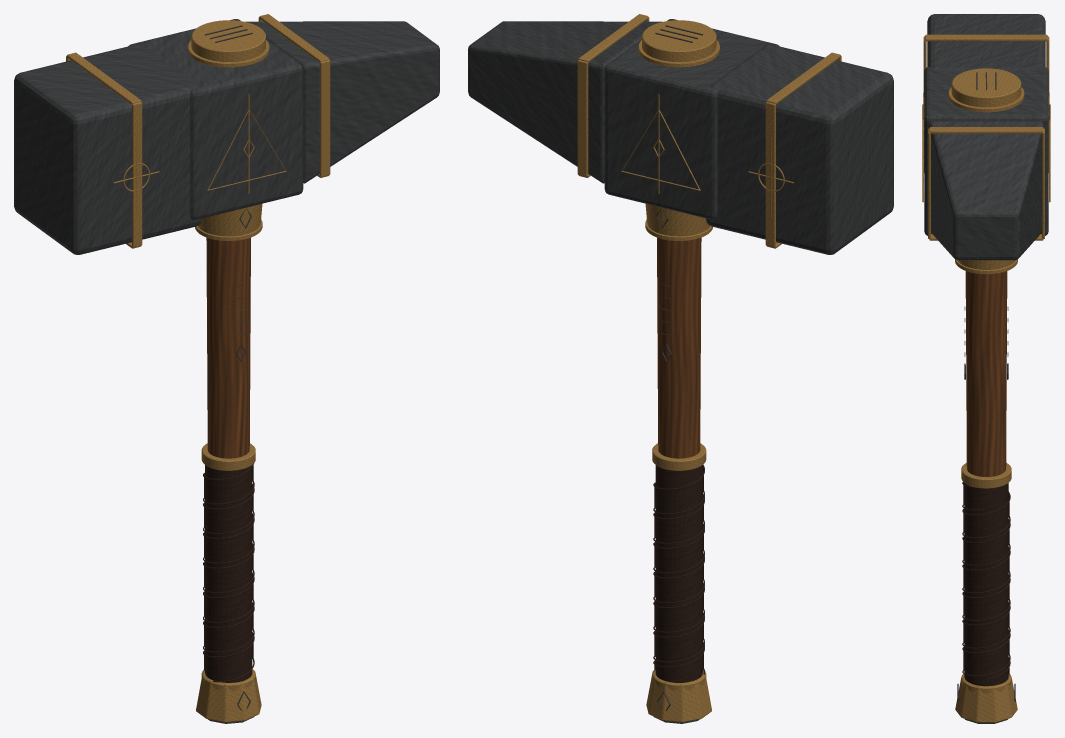
Rendered from guild_hammer_lod1.glb.
3 renders of one model, left to right at view 1: azimuth 30°, elevation 25°; view 2: azimuth 150°, elevation 25°; view 3: azimuth 270°, elevation 25°, orthographic. The views are drawn at different scales.
Parts seen in each view (by area): view 1: Hammer_Forged_dark_iron.001, Hammer_Worn_brass.001, Hammer_Dark_leather.001, Hammer_Walnut_shaft.001; view 2: Hammer_Forged_dark_iron.001, Hammer_Worn_brass.001, Hammer_Dark_leather.001, Hammer_Walnut_shaft.001; view 3: Hammer_Forged_dark_iron.001, Hammer_Worn_brass.001, Hammer_Dark_leather.001, Hammer_Walnut_shaft.001.
Part boxes in pixels (left/top/right/bottom): Hammer_Forged_dark_iron.001: left=14, top=19, right=439, bottom=723; Hammer_Worn_brass.001: left=66, top=14, right=330, bottom=722; Hammer_Dark_leather.001: left=203, top=463, right=254, bottom=682; Hammer_Walnut_shaft.001: left=206, top=237, right=250, bottom=458; Hammer_Forged_dark_iron.001: left=468, top=19, right=893, bottom=723; Hammer_Worn_brass.001: left=577, top=14, right=841, bottom=722; Hammer_Dark_leather.001: left=653, top=464, right=704, bottom=682; Hammer_Walnut_shaft.001: left=657, top=237, right=701, bottom=458; Hammer_Forged_dark_iron.001: left=924, top=14, right=1048, bottom=723; Hammer_Worn_brass.001: left=922, top=34, right=1050, bottom=722; Hammer_Dark_leather.001: left=962, top=482, right=1010, bottom=686; Hammer_Walnut_shaft.001: left=965, top=271, right=1007, bottom=476.
Bounding box in the file's own units: 0.3885 × 0.6616 × 0.1214.
Materials: 4 (4 with a texture image).
